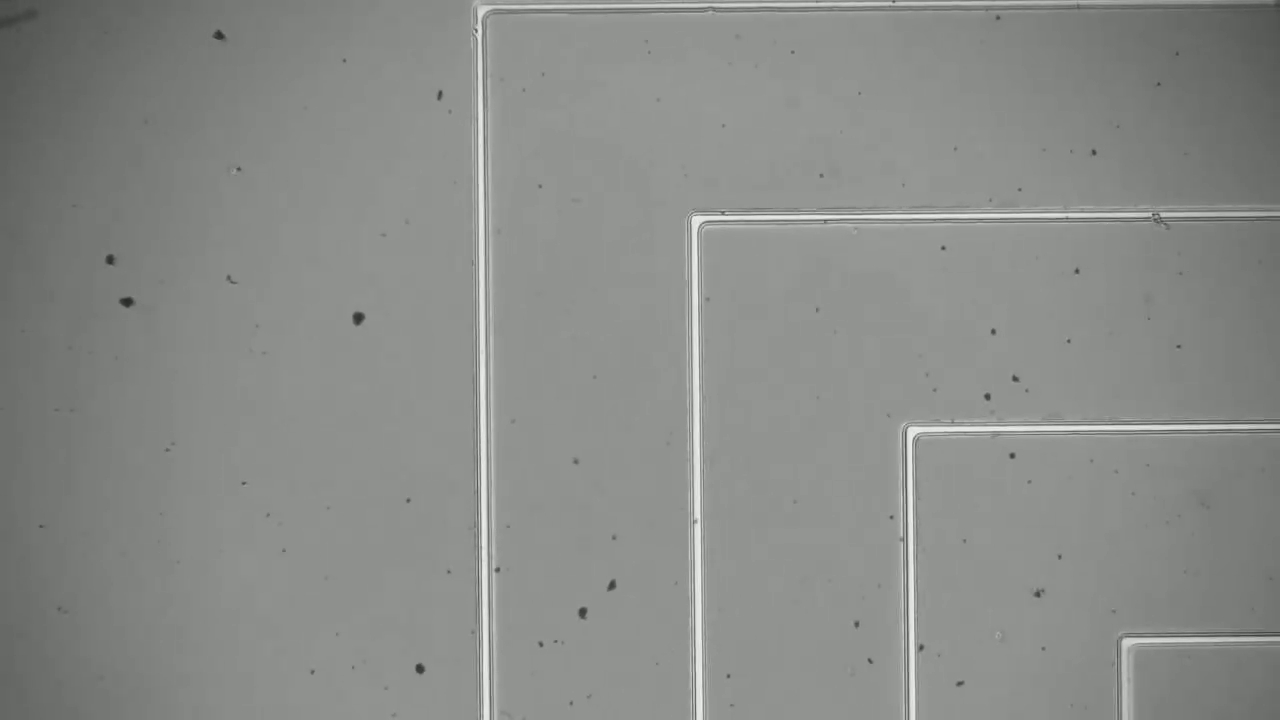stains_enbedded: (1143, 206, 1179, 232)
